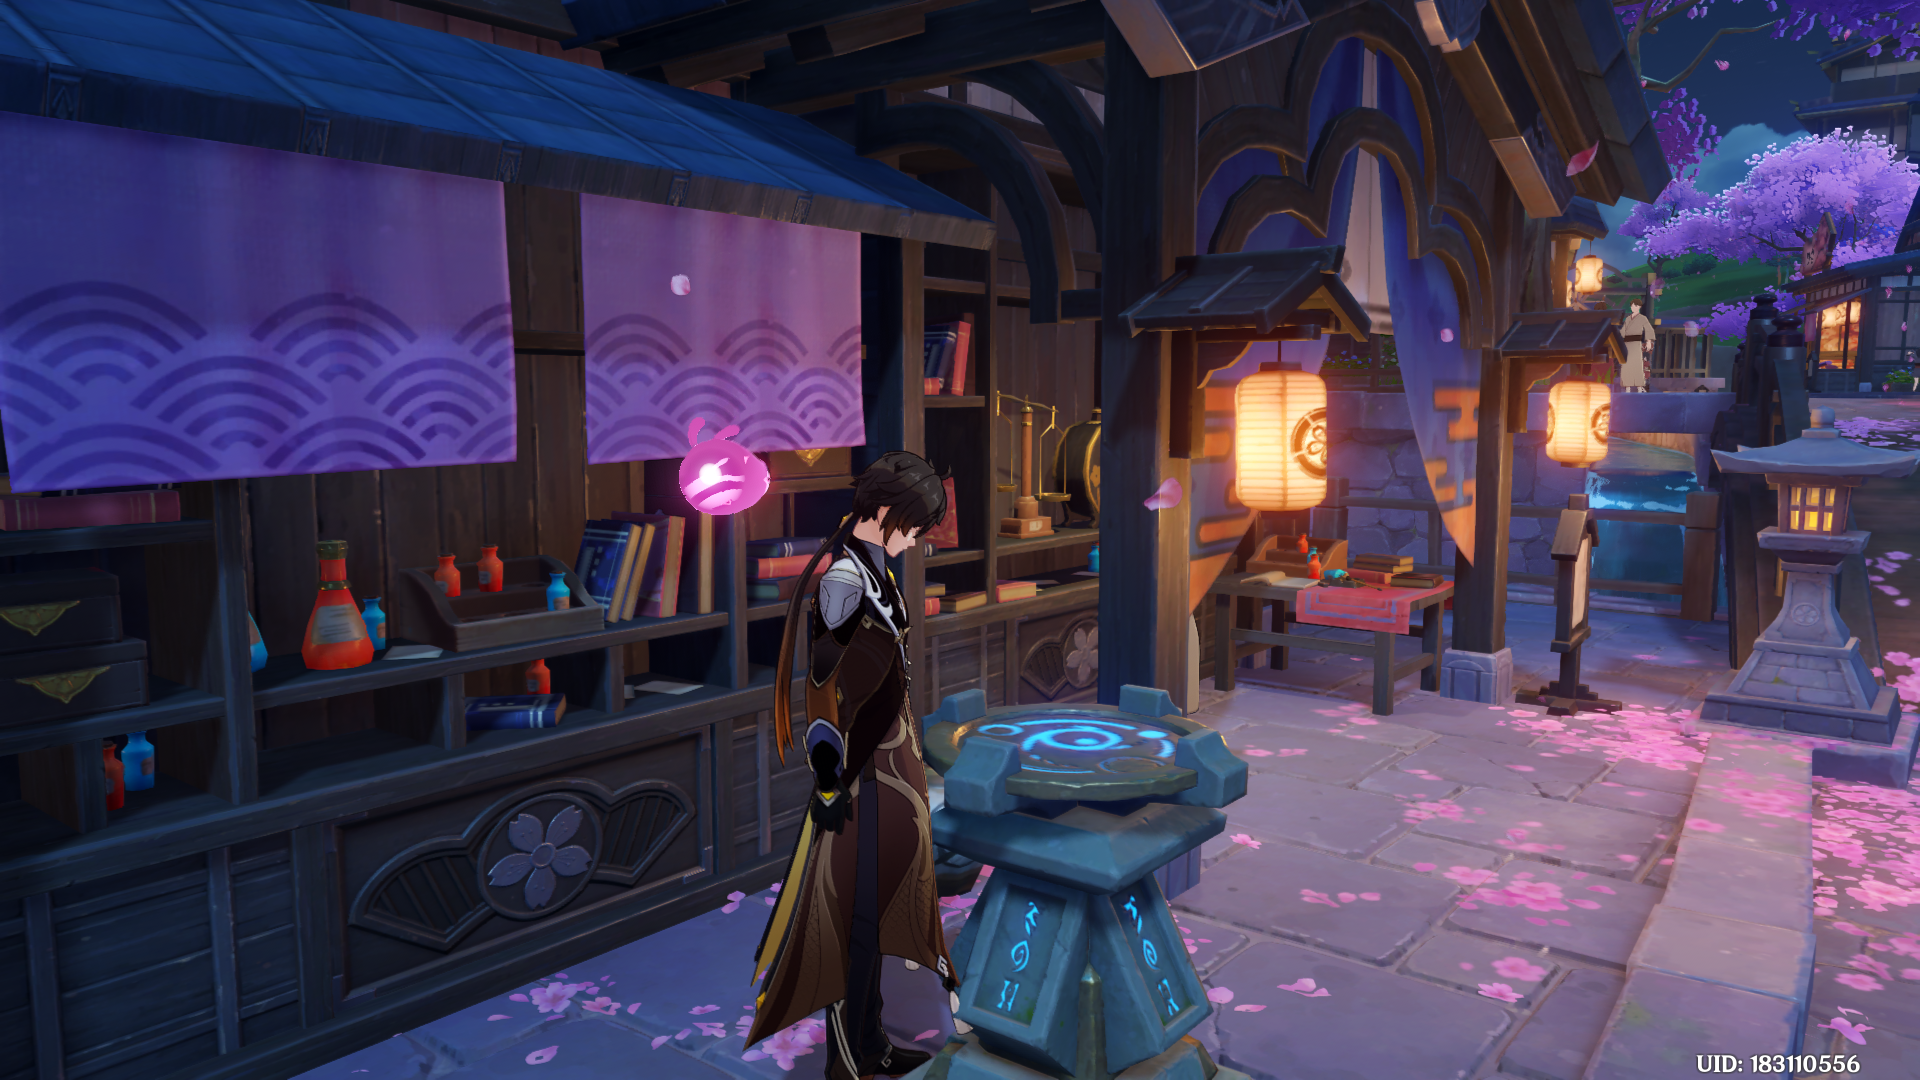character: (733, 405, 1033, 1080)
